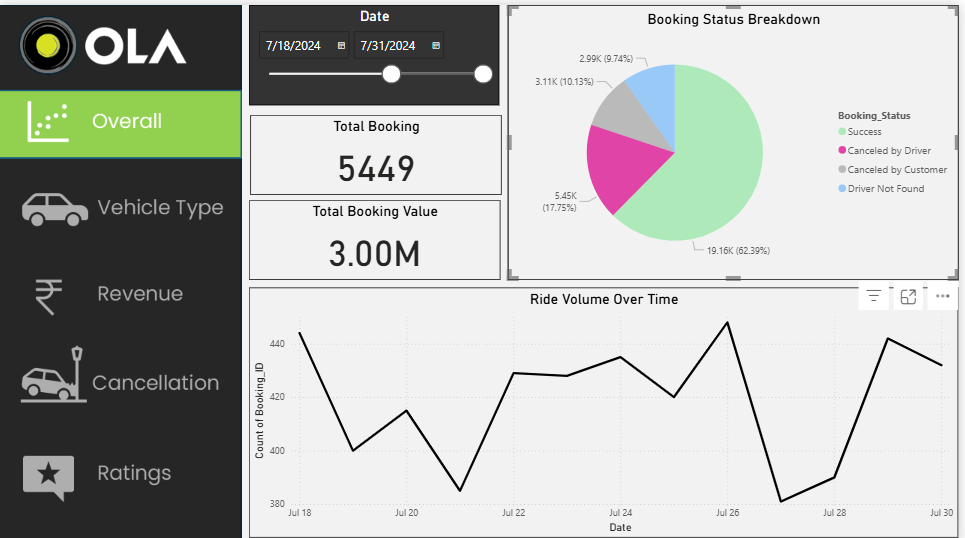

The dashboard page shown, as its layout file describes it:
{"tool":"powerbi","page":{"name":"Overall","canvas":[1280,720],"ordinal":0},"visuals":[{"type":"lineChart","title":"Ride Volume Over Time","fields":{"Y":["CountNonNull(July.Booking_ID)"],"Category":["July.Date"]},"box":[333.8,376.5,945.6,333.8],"z":0},{"type":"pieChart","title":"Booking Status Breakdown","fields":{"Category":["July.Booking_Status"],"Y":["CountNonNull(July.Booking_Status)"]},"box":[677.9,0,601.5,366.2],"z":1000},{"type":"card","title":"Total Booking","fields":{"Values":["CountNonNull(July.Booking_ID)"]},"box":[335,146.7,335,106.7],"z":2000},{"type":"card","title":"Total Booking Value","fields":{"Values":["Sum(July.Booking_Value)"]},"box":[333.3,260,335,106.7],"z":3000},{"type":"slicer","title":"Date","fields":{"Values":["July.Date"]},"box":[333.8,0,333.8,133.8],"z":4000},{"type":"actionButton","box":[0,220.6,323.5,92.6],"z":5000},{"type":"actionButton","box":[0,341.2,323.5,92.6],"z":6000},{"type":"actionButton","box":[0,451.5,323.5,92.6],"z":7000},{"type":"actionButton","box":[0,583.8,323.5,92.6],"z":8000}]}

Visuals, with their boxes in screenshot pixels (x1, y1, x2, y2), scaled from the page's 1280x720 canvas onto the 965x538 screenshot:
"Ride Volume Over Time" lineChart: [252,281,964,531]
"Booking Status Breakdown" pieChart: [511,0,964,274]
"Total Booking" card: [253,110,505,189]
"Total Booking Value" card: [251,194,504,274]
"Date" slicer: [252,0,503,100]
actionButton: [0,165,244,234]
actionButton: [0,255,244,324]
actionButton: [0,337,244,407]
actionButton: [0,436,244,505]
